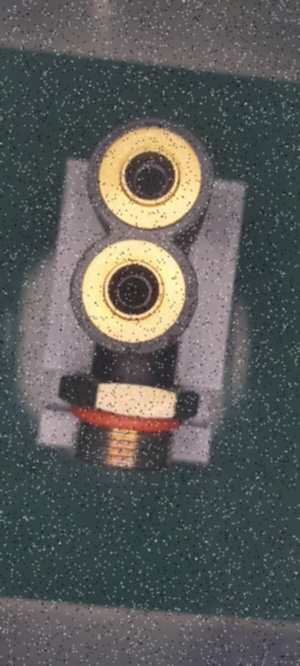bump: (118, 341, 144, 358), (163, 333, 182, 351)
white mark: (122, 370, 134, 384)
